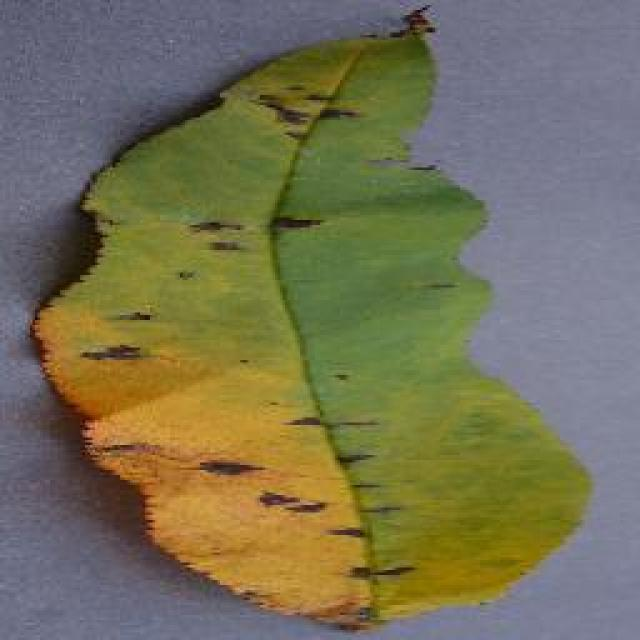Peach_Bacterial_Spot: (135, 72, 508, 595)
